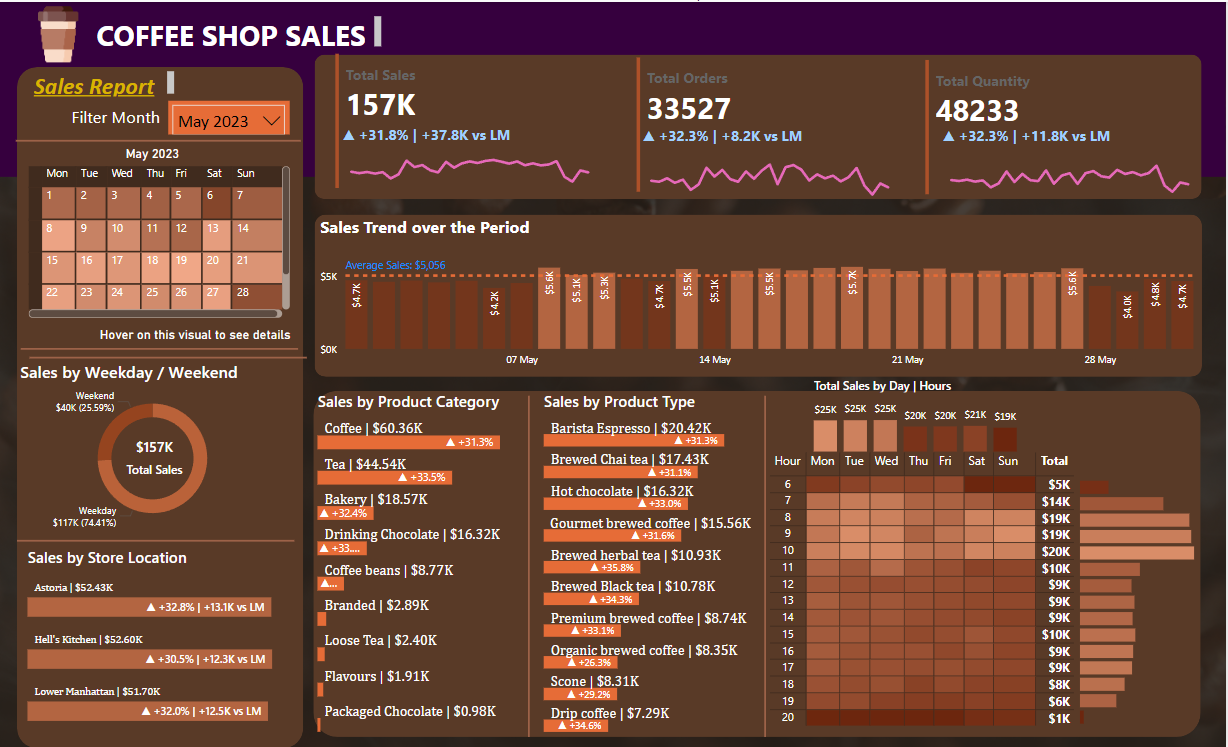

The dashboard page shown, as its layout file describes it:
{"tool":"powerbi","page":{"name":"Page 1","canvas":[1400,850],"ordinal":0},"visuals":[{"type":"lineChart","fields":{"Y":["Transactions.Total Sales"],"Category":["Date Table.Date Hierarchy.Date"]},"box":[389.4,139.4,300,85.3],"z":0,"group":"g2"},{"type":"donutChart","title":"Sales by Weekday / Weekend","fields":{"Category":["Date Table.Weekday / Weekend"],"Y":["Transactions.Total Sales"]},"box":[21.4,408.8,311.9,198],"z":0,"group":"g3"},{"type":"shape","box":[360.3,442.9,1011.2,394.5],"z":0},{"type":"shape","box":[0,0,1400.1,199.4],"z":1000},{"type":"cardVisual","fields":{"Data":["Transactions.Total Sales"]},"box":[370.3,54.1,310.3,163.2],"z":1000,"group":"g2"},{"type":"card","fields":{"Values":["Transactions.Total Sales"]},"box":[131.1,490,96.9,55.5],"z":1000,"group":"g3"},{"type":"shape","box":[22.8,74.1,326.2,776.2],"z":2000},{"type":"shape","box":[362.2,59.5,1010.8,164.9],"z":3000},{"type":"textbox","box":[108.2,11.4,334.7,48.4],"z":4000},{"type":"cardVisual","box":[370.3,61.2,300.5,185.2],"z":5000},{"type":"slicer","fields":{"Values":["Date Table.Month Year"]},"box":[195.1,112.5,138.2,38.5],"z":6000},{"type":"group","id":"g1","title":"Group 1","box":[1042.6,61.8,329.4,164.7],"z":7000},{"type":"group","id":"g2","title":"Group 3","box":[370.3,54.1,660.3,172.1],"z":8000},{"type":"pivotTable","fields":{"Rows":["Date Table.Week Number"],"Columns":["Date Table.Day Name"],"Values":["Min(Date Table.Day Number)"]},"box":[31.3,182.3,307.6,182.3],"z":9000},{"type":"card","fields":{"Values":["Min(Date Table.Month Year)"]},"box":[135.3,159.5,84,27.1],"z":10000},{"type":"cardVisual","fields":{"Data":["Transactions.Total Orders"]},"box":[712.9,58.5,310.3,163.2],"z":11000,"group":"g2"},{"type":"card","fields":{"Values":["Transactions.Foot Noter"]},"box":[108.2,364.6,239.3,25.6],"z":11000},{"type":"cardVisual","fields":{"Data":["Transactions.Total Quantity"]},"box":[1042.6,61.8,310.3,163.2],"z":12000,"group":"g1"},{"type":"shape","box":[27.1,381.7,316.2,27.1],"z":12000},{"type":"lineChart","fields":{"Category":["Date Table.Date Hierarchy.Date"],"Y":["Transactions.Total Orders"]},"box":[730.6,140.9,300,85.3],"z":13000,"group":"g2"},{"type":"shape","box":[21.4,151,324.7,14.2],"z":13000},{"type":"lineChart","fields":{"Y":["Transactions.Total Quantity"],"Category":["Date Table.Date Hierarchy.Date"]},"box":[1072,141.2,300,85.3],"z":14000,"group":"g1"},{"type":"shape","box":[22.8,606.7,316.2,14.2],"z":14000},{"type":"group","id":"g3","title":"Group 2","box":[21.4,408.8,311.9,198],"z":15000},{"type":"clusteredBarChart","title":"Sales by Store Location","fields":{"Category":["Transactions.store_location"],"Y":["Transactions.Placeholder","Transactions.Total Sales"]},"box":[29.9,621,317.6,206.5],"z":16000},{"type":"shape","box":[361.8,242.1,1011.2,185.2],"z":17000},{"type":"columnChart","title":"Sales Trend over the Period","fields":{"Category":["Transactions.transaction_date"],"Y":["Transactions.Total Sales"]},"box":[363.2,243.6,1011.2,180.9],"z":18000},{"type":"clusteredBarChart","title":"Sales by Product Category","fields":{"Y":["Transactions.Placeholder","Transactions.Total Sales"],"Category":["Transactions.product_category"]},"box":[360.3,442.9,250,394.5],"z":19000},{"type":"shape","box":[601,448.6,10,388.8],"z":20000},{"type":"shape","box":[37.1,391.7,316.2,27.1],"z":21000},{"type":"clusteredBarChart","title":"Sales by Product Type","fields":{"Y":["Transactions.Placeholder","Transactions.Total Sales"],"Category":["Transactions.product_type"]},"box":[618.1,442.9,250.7,394.5],"z":22000},{"type":"shape","box":[870.2,448.6,10,388.8],"z":23000},{"type":"pivotTable","fields":{"Rows":["Transactions.Hour"],"Columns":["Date Table.Day Name"],"Values":["Transactions.Total Sales"]},"box":[875.9,508.5,370.3,329],"z":24000},{"type":"barChart","fields":{"Category":["Transactions.Hour"],"Y":["Transactions.Total Sales"]},"box":[1229.1,532.7,142.4,294.8],"z":25000},{"type":"columnChart","title":"Total Sales by Day | Hours","fields":{"Category":["Date Table.Day Name"],"Y":["Transactions.Total Sales"]},"box":[925.8,427.3,242.1,91.2],"z":26000},{"type":"textbox","box":[37,74.1,169.5,38.5],"z":27000},{"type":"textbox","box":[79.8,112.5,159.5,45.6],"z":28000},{"type":"image","box":[31.3,0,76.9,74.1],"z":28001}]}

Visuals, with their boxes in screenshot pixels (x1, y1, x2, y2), scaled from the page's 1400x850 canvas onto the 1228x747 screenshot:
lineChart - Transactions.Total Sales x Date Table.Date Hierarchy.Date: [x1=342, y1=123, x2=605, y2=197]
"Sales by Weekday / Weekend" donutChart: [x1=19, y1=359, x2=292, y2=533]
shape: [x1=316, y1=389, x2=1203, y2=736]
shape: [x1=0, y1=0, x2=1227, y2=175]
cardVisual - Transactions.Total Sales: [x1=325, y1=48, x2=597, y2=191]
card - Transactions.Total Sales: [x1=115, y1=431, x2=200, y2=479]
shape: [x1=20, y1=65, x2=306, y2=746]
shape: [x1=318, y1=52, x2=1204, y2=197]
textbox: [x1=95, y1=10, x2=388, y2=53]
cardVisual: [x1=325, y1=54, x2=588, y2=217]
slicer - Date Table.Month Year: [x1=171, y1=99, x2=292, y2=133]
"Group 1" group: [x1=915, y1=54, x2=1203, y2=199]
"Group 3" group: [x1=325, y1=48, x2=904, y2=199]
pivotTable - Date Table.Week Number x Date Table.Day Name: [x1=27, y1=160, x2=297, y2=320]
card - Min(Date Table.Month Year): [x1=119, y1=140, x2=192, y2=164]
cardVisual - Transactions.Total Orders: [x1=625, y1=51, x2=897, y2=195]
card - Transactions.Foot Noter: [x1=95, y1=320, x2=305, y2=343]
cardVisual - Transactions.Total Quantity: [x1=915, y1=54, x2=1187, y2=198]
shape: [x1=24, y1=335, x2=301, y2=359]
lineChart - Date Table.Date Hierarchy.Date x Transactions.Total Orders: [x1=641, y1=124, x2=904, y2=199]
shape: [x1=19, y1=133, x2=304, y2=145]
lineChart - Transactions.Total Quantity x Date Table.Date Hierarchy.Date: [x1=940, y1=124, x2=1203, y2=199]
shape: [x1=20, y1=533, x2=297, y2=546]
"Group 2" group: [x1=19, y1=359, x2=292, y2=533]
"Sales by Store Location" clusteredBarChart: [x1=26, y1=546, x2=305, y2=727]
shape: [x1=317, y1=213, x2=1204, y2=376]
"Sales Trend over the Period" columnChart: [x1=319, y1=214, x2=1206, y2=373]
"Sales by Product Category" clusteredBarChart: [x1=316, y1=389, x2=535, y2=736]
shape: [x1=527, y1=394, x2=536, y2=736]
shape: [x1=33, y1=344, x2=310, y2=368]
"Sales by Product Type" clusteredBarChart: [x1=542, y1=389, x2=762, y2=736]
shape: [x1=763, y1=394, x2=772, y2=736]
pivotTable - Transactions.Hour x Date Table.Day Name: [x1=768, y1=447, x2=1093, y2=736]
barChart - Transactions.Hour x Transactions.Total Sales: [x1=1078, y1=468, x2=1203, y2=727]
"Total Sales by Day | Hours" columnChart: [x1=812, y1=376, x2=1024, y2=456]
textbox: [x1=32, y1=65, x2=181, y2=99]
textbox: [x1=70, y1=99, x2=210, y2=139]
image: [x1=27, y1=0, x2=95, y2=65]
